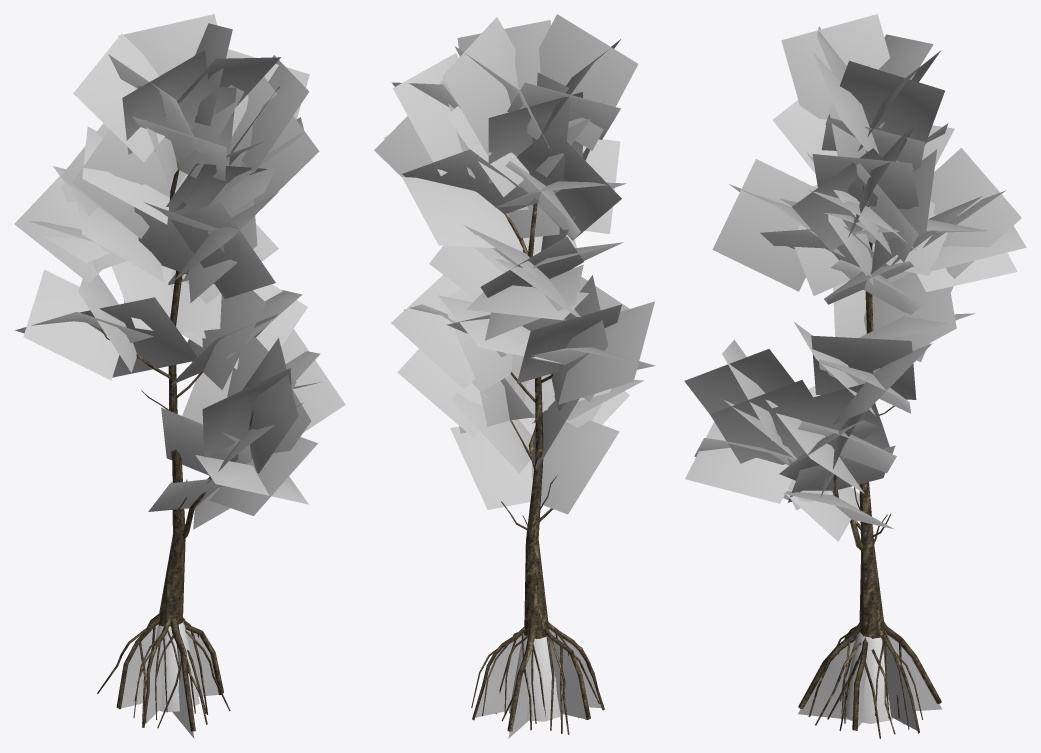
The model's file is mangrove5.fbx.
3 views of the same model, side by side, from view 1: azimuth 30°, elevation 25°; view 2: azimuth 150°, elevation 25°; view 3: azimuth 270°, elevation 25° (orthographic).
Parts seen in each view (by area): view 1: polySurface346; view 2: polySurface346; view 3: polySurface346.
Boxes of the visible parts, <box> form: polySurface346: <box>14,14,345,738</box>; polySurface346: <box>374,14,655,738</box>; polySurface346: <box>684,14,1026,738</box>.
Bounding box in the file's own units: 16.61 × 39.34 × 17.73.
